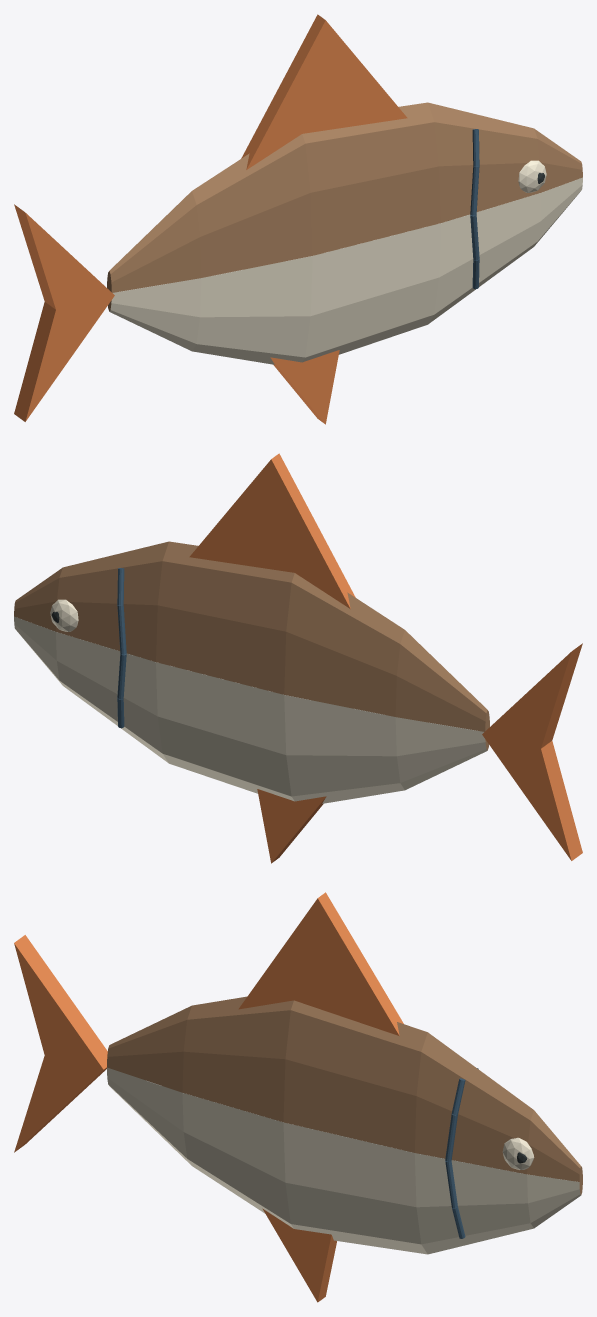
Rendered from harbor-and-tackle-halibut-e6a223c4__19587.glb.
3 views of the same model, one above another, from view 1: azimuth 30°, elevation 25°; view 2: azimuth 150°, elevation 25°; view 3: azimuth 330°, elevation 25° (orthographic).
Parts seen in each view (by area): view 1: cedar, ivory, orange, navy; view 2: cedar, ivory, orange, navy; view 3: cedar, ivory, orange, navy.
Boxes of the visible parts, bbox=[...] form: cedar: bbox=[107, 102, 582, 311]; ivory: bbox=[109, 160, 582, 364]; orange: bbox=[14, 14, 407, 424]; navy: bbox=[470, 129, 479, 289]; cedar: bbox=[14, 541, 489, 750]; ivory: bbox=[14, 599, 487, 803]; orange: bbox=[189, 453, 582, 863]; navy: bbox=[117, 568, 126, 728]; cedar: bbox=[107, 996, 582, 1194]; ivory: bbox=[107, 1067, 580, 1254]; orange: bbox=[14, 892, 403, 1302]; navy: bbox=[445, 1068, 478, 1238].
Bounding box in the file's own units: 0.9996 × 0.688 × 0.09.
